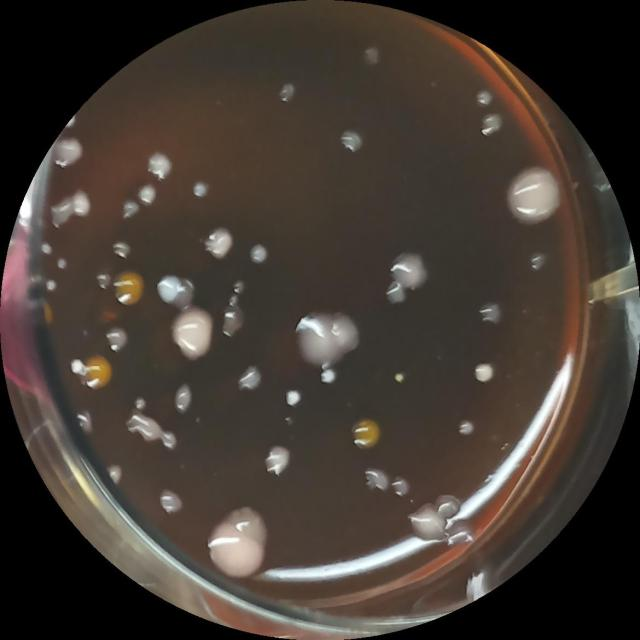Staphylococcus: (70, 358, 86, 375), (393, 370, 407, 386)
